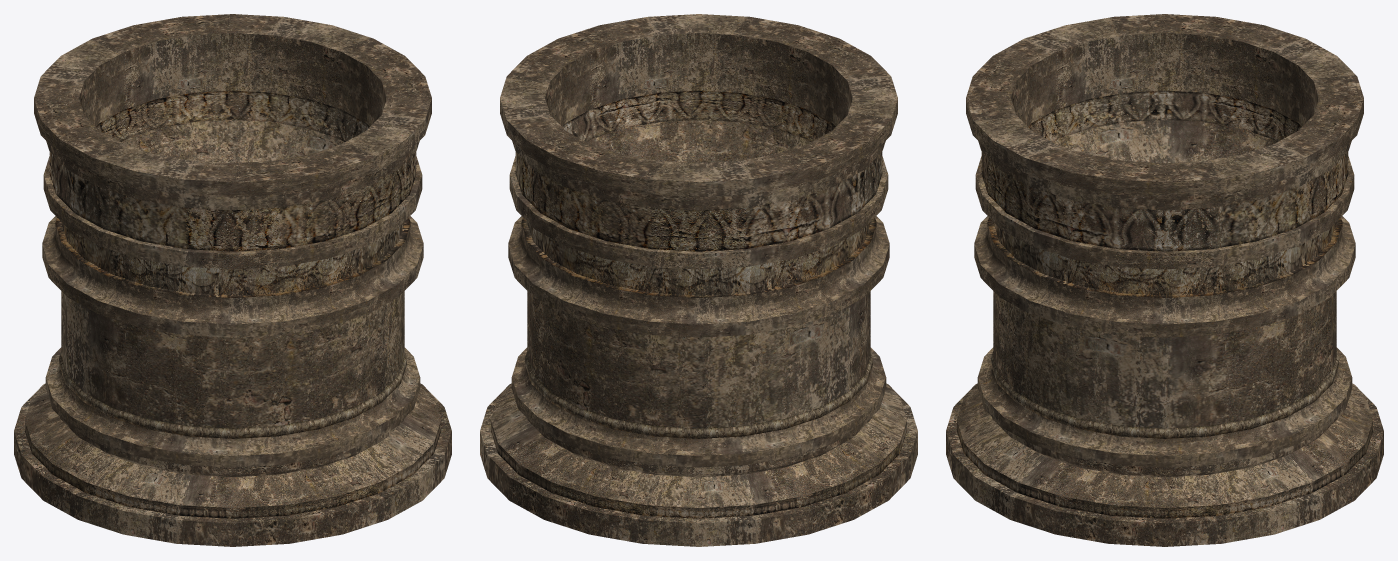
Rendered from materials_5_pedestal_1.fbx.
The picture shows the model from 3 angles, left to right: view 1: azimuth 30°, elevation 25°; view 2: azimuth 150°, elevation 25°; view 3: azimuth 270°, elevation 25°; orthographic projection.
Parts seen in each view (by area): view 1: materials_5_pedestal_1; view 2: materials_5_pedestal_1; view 3: materials_5_pedestal_1.
Boxes of the visible parts, x1=… form: materials_5_pedestal_1: x1=14, y1=14, x2=451, y2=546; materials_5_pedestal_1: x1=480, y1=14, x2=917, y2=546; materials_5_pedestal_1: x1=946, y1=14, x2=1383, y2=546.
Bounding box in the file's own units: 91.64 × 82.26 × 91.64.
